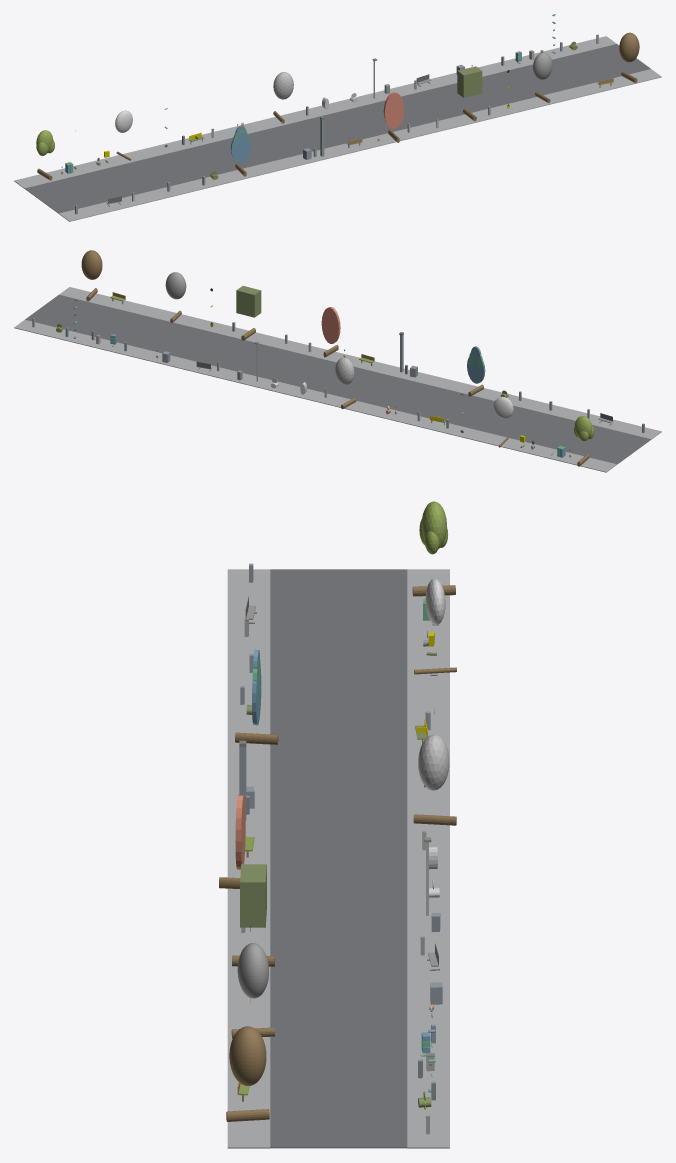
The picture shows the model from 3 angles, top to bottom: view 1: azimuth 30°, elevation 25°; view 2: azimuth 150°, elevation 25°; view 3: azimuth 270°, elevation 25°; orthographic projection. The views are drawn at different scales.
Visible parts, largest first — view 1: road_slab, sidewalk_left, sidewalk_right, inst_0023, inst_0022, inst_0020, inst_0025, inst_0021, inst_0024, inst_0018, inst_0019; view 2: road_slab, sidewalk_right, sidewalk_left, inst_0023, inst_0022, inst_0020, inst_0025, inst_0024, inst_0021, inst_0018, inst_0019; view 3: road_slab, sidewalk_right, sidewalk_left, inst_0025, inst_0023, inst_0021, inst_0024, inst_0018, inst_0020, inst_0019, inst_0022.
Part boxes in pixels (<box>): road_slab: <box>24,44,650,213</box>; sidewalk_left: <box>59,69,661,221</box>; sidewalk_right: <box>14,36,616,188</box>; inst_0023: <box>457,66,482,121</box>; inst_0022: <box>383,92,404,142</box>; inst_0020: <box>230,125,251,176</box>; inst_0025: <box>619,32,639,83</box>; inst_0021: <box>273,72,293,123</box>; inst_0024: <box>533,52,552,103</box>; inst_0018: <box>36,130,54,180</box>; inst_0019: <box>115,110,132,160</box>; road_slab: <box>25,295,650,464</box>; sidewalk_right: <box>14,320,616,472</box>; sidewalk_left: <box>59,287,661,439</box>; inst_0023: <box>236,286,261,340</box>; inst_0022: <box>321,307,340,357</box>; inst_0020: <box>467,346,485,396</box>; inst_0025: <box>81,250,102,301</box>; inst_0024: <box>165,272,186,322</box>; inst_0021: <box>335,357,356,409</box>; inst_0018: <box>574,416,594,466</box>; inst_0019: <box>493,396,513,447</box>; road_slab: <box>270,569,407,1148</box>; sidewalk_right: <box>407,569,449,1148</box>; sidewalk_left: <box>227,569,270,1148</box>; inst_0025: <box>226,1026,269,1121</box>; inst_0023: <box>232,864,274,966</box>; inst_0021: <box>413,734,456,825</box>; inst_0024: <box>231,943,274,1038</box>; inst_0018: <box>412,501,455,596</box>; inst_0020: <box>235,650,278,744</box>; inst_0019: <box>414,578,456,674</box>; inst_0022: <box>219,795,245,888</box>.
Size of the model in its own units: 80 by 6.08 by 13.92.
